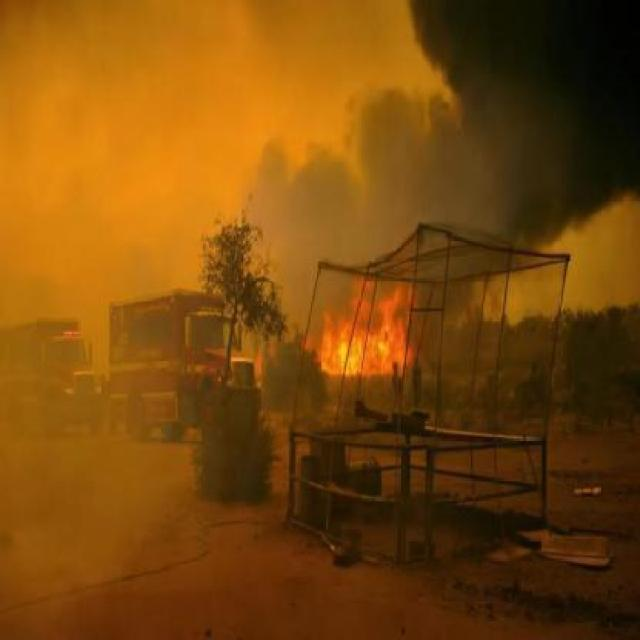Fire: (307, 266, 422, 388)
